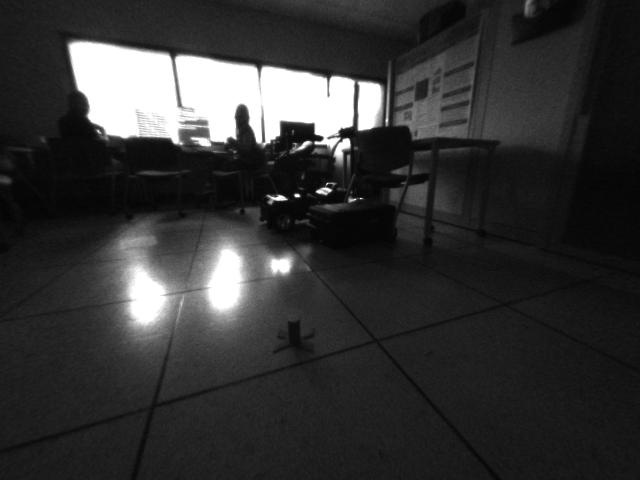x: (266, 314, 318, 356)
